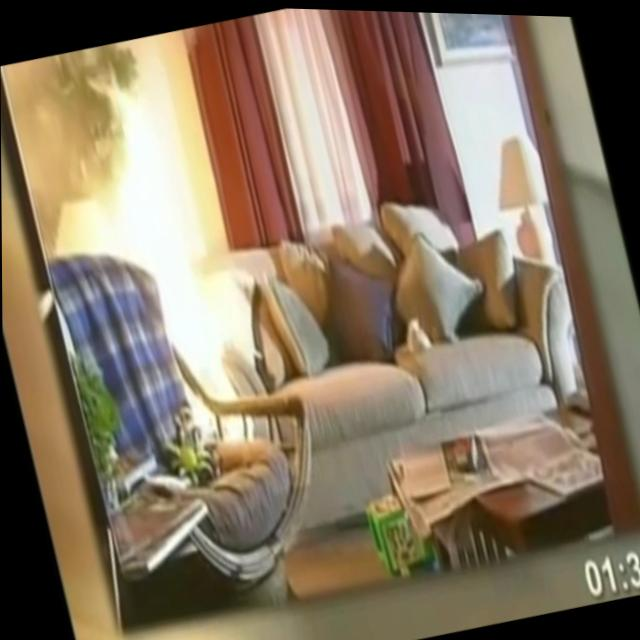fire: (63, 46, 259, 454)
